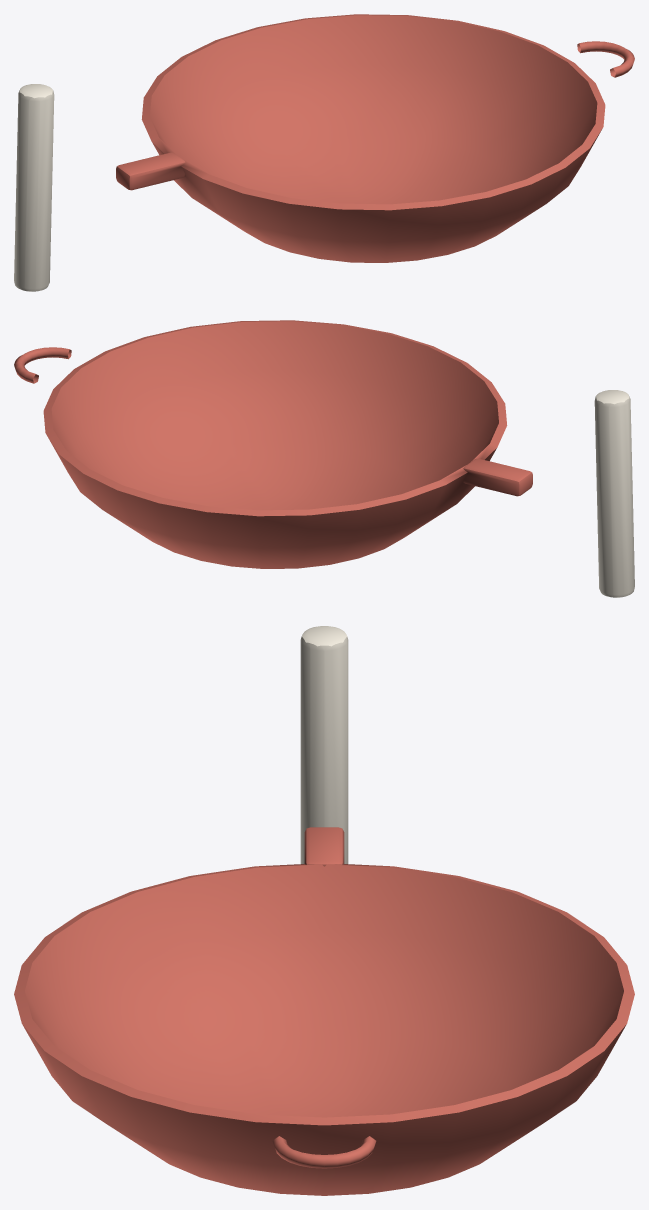
Rendered from cook_wok.glb.
3 views of the same model, one above another, from view 1: azimuth 30°, elevation 25°; view 2: azimuth 150°, elevation 25°; view 3: azimuth 270°, elevation 25° (orthographic). The views are drawn at different scales.
Parts seen in each view (by area): view 1: PART; view 2: PART; view 3: PART.
Part boxes in pixels (x1,y1,x2,y2): PART: (14, 14, 634, 291); PART: (14, 320, 634, 597); PART: (14, 626, 634, 1195).
Size of the model in its own units: 0.524 by 0.1802 by 0.344.
